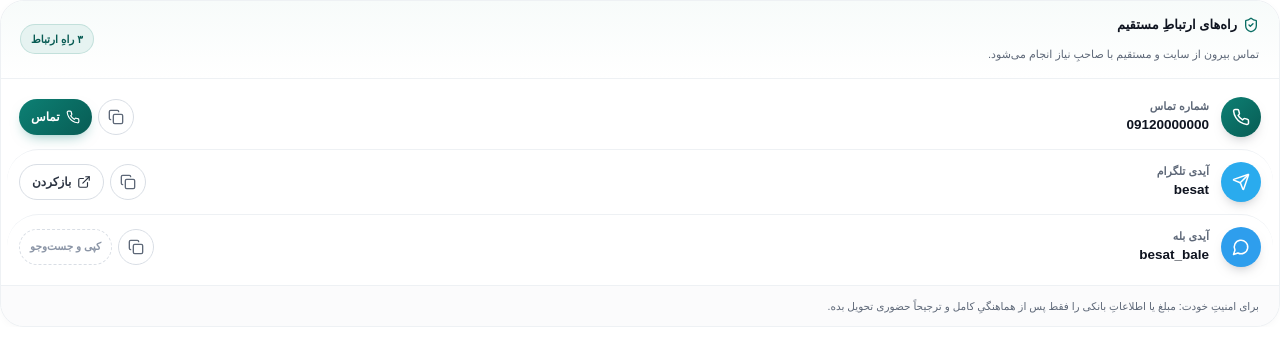
Test: ListingContactCard — کاربرِ واردشده › کپیِ شماره، کلیپ‌بورد را صدا می‌زند و بازخورد می‌دهد
Click the button named "کپی شماره تماس" at (116, 117), box x1=98 y1=99 x2=134 y2=135
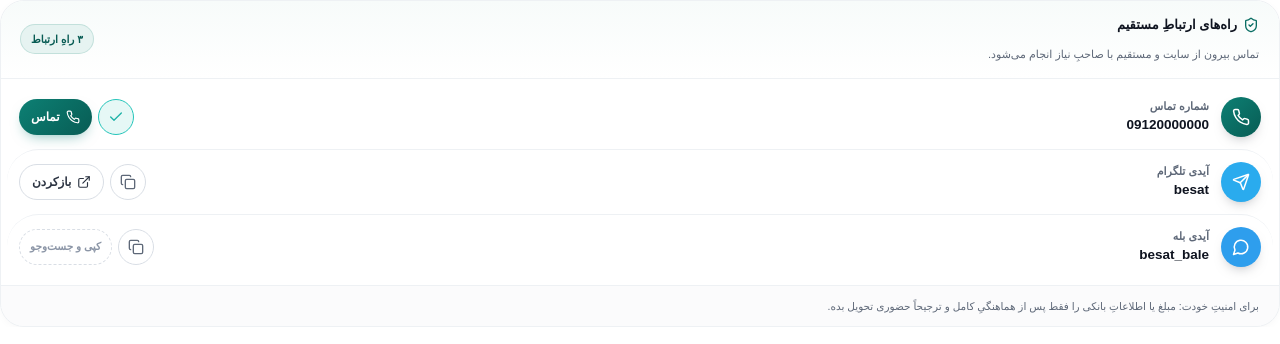
Now the button named "کپی شد" is shown, box x1=98 y1=99 x2=134 y2=135
